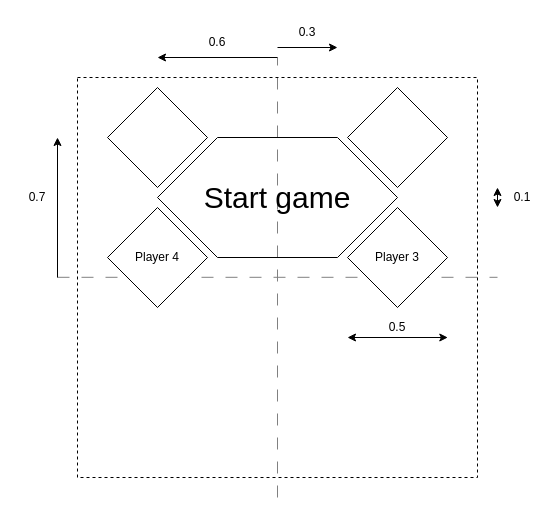
Image size: 554x516. Some labels were removed from this diagram. The centre of each missing label's shape, as x and y in pixels:
Player 1: the point at 157,137
Player 2: the point at 397,137
